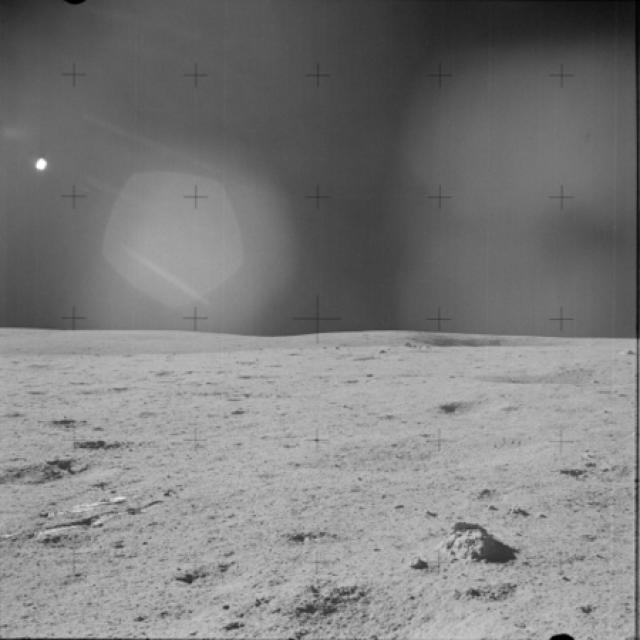crater: (279, 570, 405, 639), (0, 449, 102, 495), (562, 456, 639, 495), (58, 431, 148, 460), (425, 397, 515, 422)
rock: (428, 514, 504, 568)
